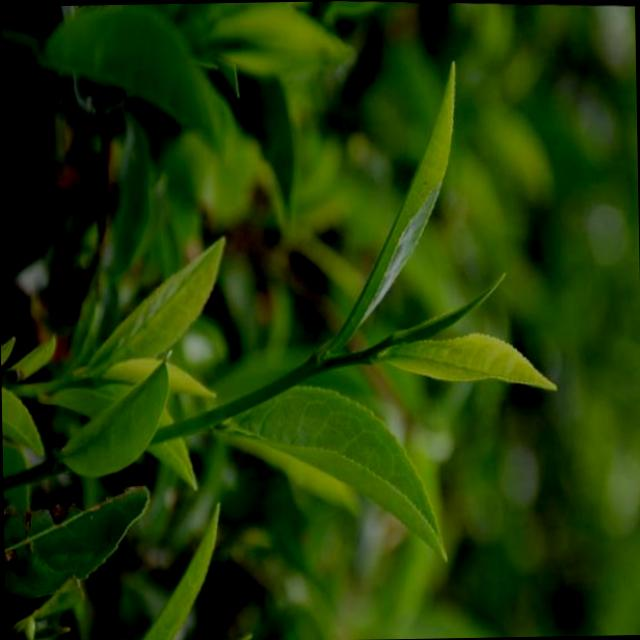Stem: (297, 355, 323, 379)
